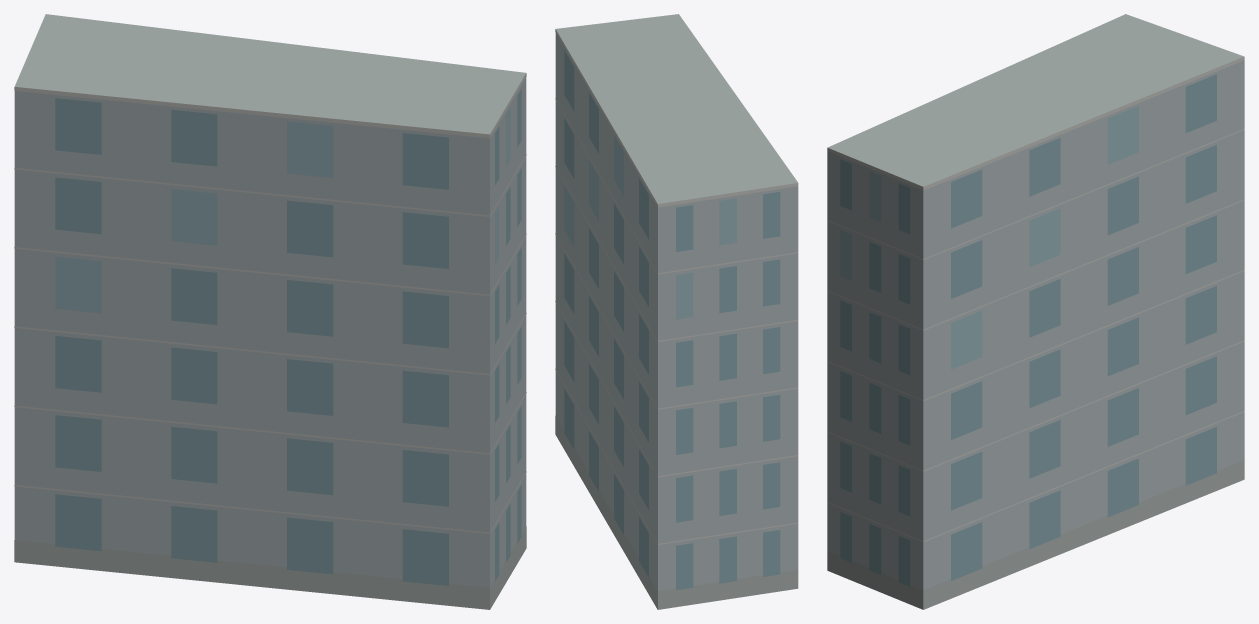
Rendered from survey-upis-32588697.glb.
The picture shows the model from 3 angles, left to right: view 1: azimuth 30°, elevation 25°; view 2: azimuth 150°, elevation 25°; view 3: azimuth 270°, elevation 25°; orthographic projection. The views are drawn at different scales.
Parts seen in each view (by area): view 1: survey-upis-32588697.tmp; view 2: survey-upis-32588697.tmp; view 3: survey-upis-32588697.tmp.
Part boxes in pixels (x1,y1,x2,y2): survey-upis-32588697.tmp: (14,14,526,609); survey-upis-32588697.tmp: (555,14,798,609); survey-upis-32588697.tmp: (827,14,1244,609).
Size of the model in its own units: 25.27 by 28.8 by 25.76.
